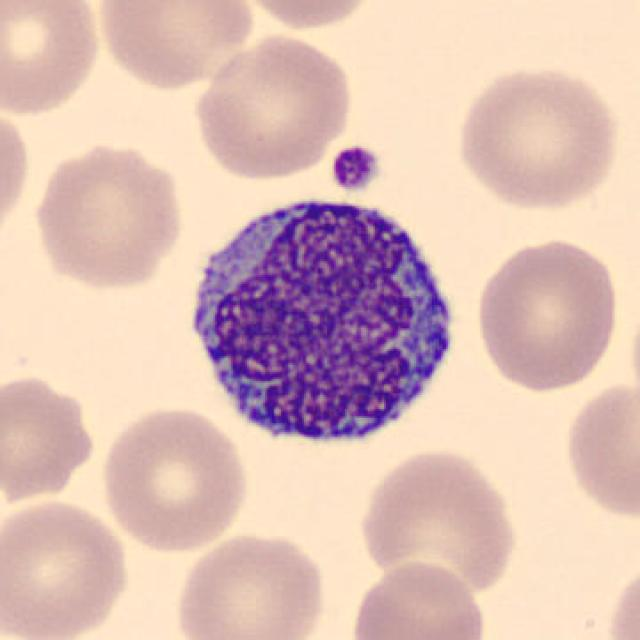monocyte: (198, 189, 451, 430)
platelets: (328, 143, 377, 194)
rbc: (354, 442, 526, 608), (97, 397, 253, 562), (450, 64, 612, 218), (472, 232, 622, 388), (0, 496, 152, 640), (42, 138, 182, 290), (165, 530, 345, 640), (200, 38, 350, 169), (337, 545, 503, 640), (100, 0, 259, 87), (0, 374, 100, 511), (0, 0, 102, 121), (564, 382, 640, 538)
